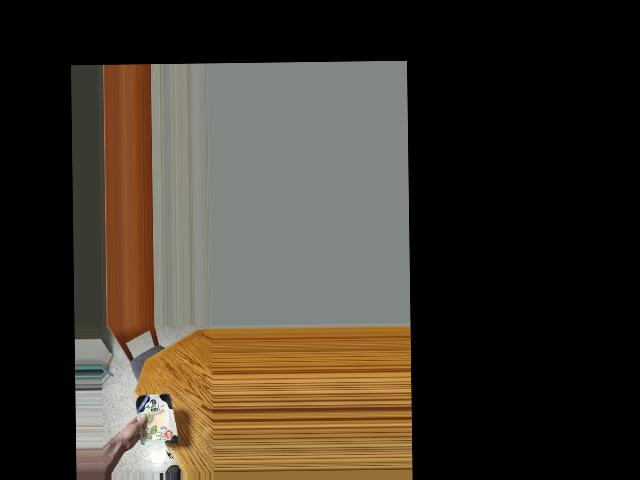cheese: (133, 386, 178, 450)
